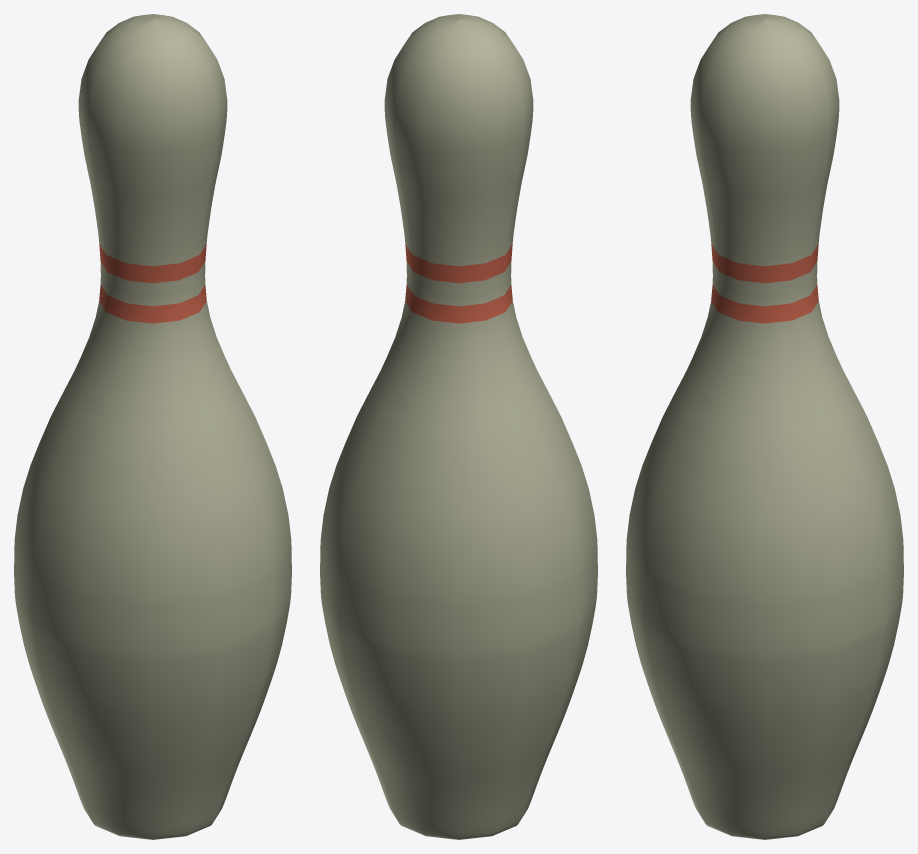
The model's file is Pin_Low_Poly.glb.
3 views of the same model, side by side, from view 1: azimuth 30°, elevation 25°; view 2: azimuth 150°, elevation 25°; view 3: azimuth 270°, elevation 25° (orthographic).
Parts seen in each view (by area): view 1: Pin Low Poly; view 2: Pin Low Poly; view 3: Pin Low Poly.
Part boxes in pixels (<box>): Pin Low Poly: <box>14,14,291,839</box>; Pin Low Poly: <box>320,14,597,839</box>; Pin Low Poly: <box>626,14,903,839</box>.
Size of the model in its own units: 0.1211 by 0.381 by 0.1211.
